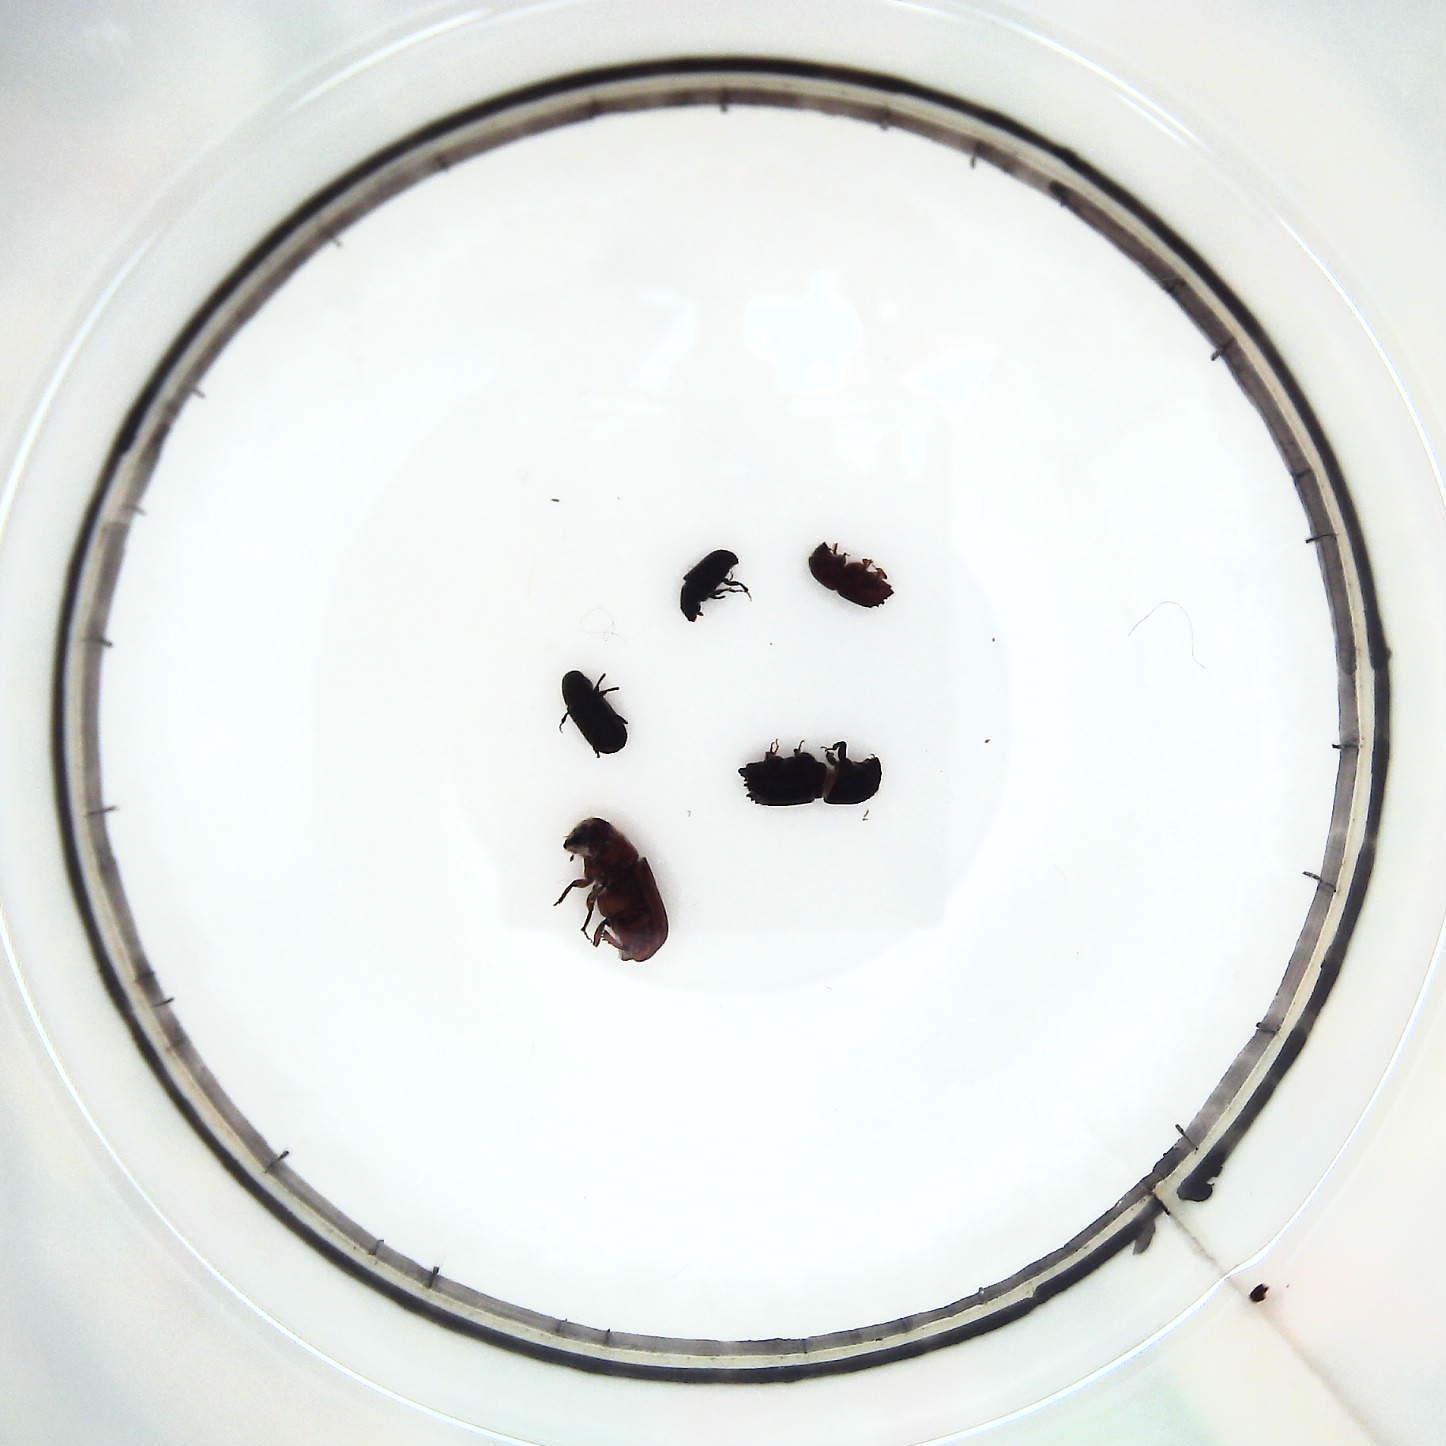Boerner: (736, 736, 889, 814)
Leconte: (556, 814, 667, 971)
armandi: (557, 663, 634, 757)
coleoptera: (675, 546, 748, 621)
linnaeus: (805, 544, 895, 617)
